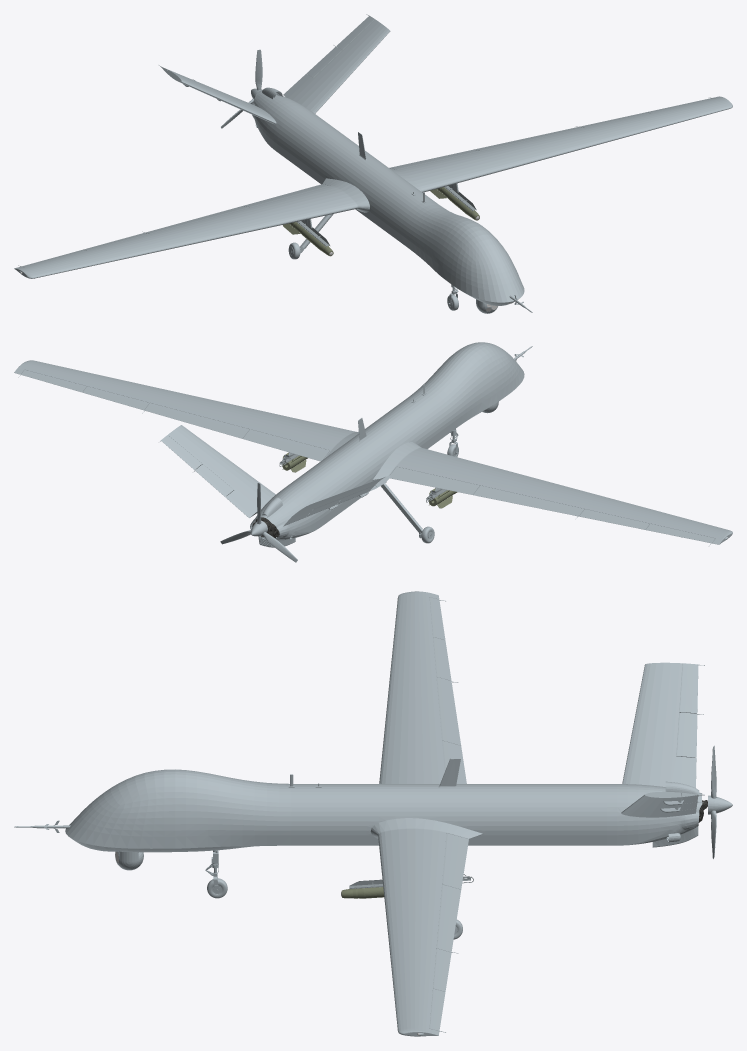
The model's file is wingloong-i.glb.
3 renders of one model, top to bottom at view 1: azimuth 30°, elevation 25°; view 2: azimuth 150°, elevation 25°; view 3: azimuth 270°, elevation 25°, orthographic. The views are drawn at different scales.
Visible parts, largest first — view 1: WingLoong; view 2: WingLoong; view 3: WingLoong.
Boxes of the visible parts, x1=… form: WingLoong: x1=14, y1=14, x2=732, y2=313; WingLoong: x1=14, y1=342, x2=732, y2=562; WingLoong: x1=14, y1=591, x2=732, y2=1036.
Bounding box in the file's own units: 14.05 × 2.53 × 9.66.
